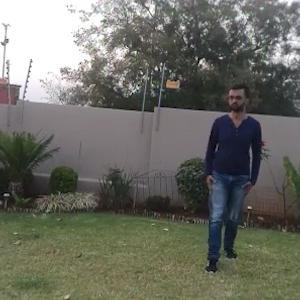follow: (201, 79, 260, 271)
